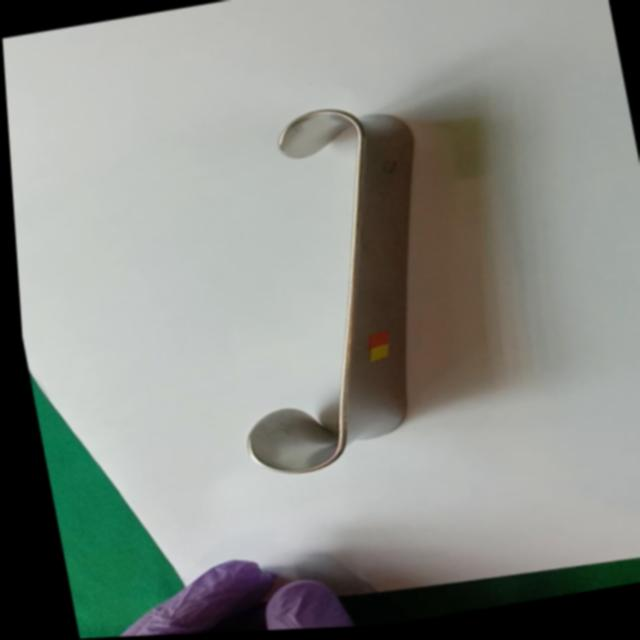CheekRetractor: (174, 91, 472, 491)
